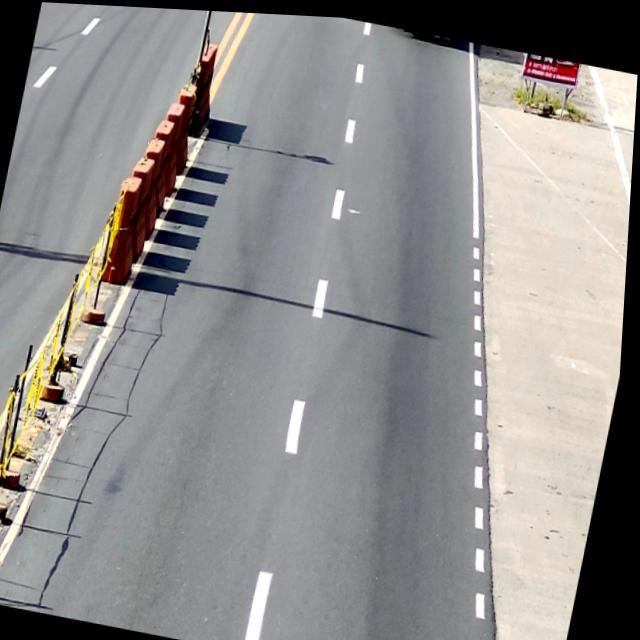Car: (401, 25, 453, 41)
